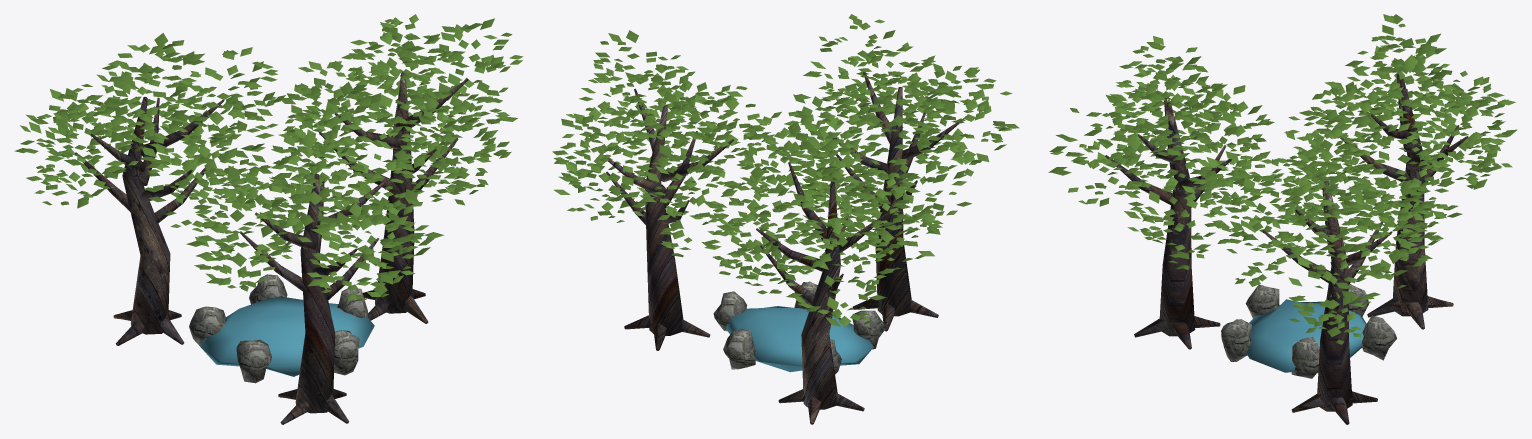
File: env-site-glade.glb
The picture shows the model from 3 angles, left to right: view 1: azimuth 30°, elevation 25°; view 2: azimuth 150°, elevation 25°; view 3: azimuth 270°, elevation 25°; orthographic projection. The views are drawn at different scales.
Parts seen in each view (by area): view 1: site glade · authored textured miniature; view 2: site glade · authored textured miniature; view 3: site glade · authored textured miniature.
Boxes of the visible parts, x1,y1,x2,y2 form: site glade · authored textured miniature: (14,14,523,424); site glade · authored textured miniature: (552,14,1019,424); site glade · authored textured miniature: (1048,14,1517,424).
Size of the model in its own units: 1.78 by 1.14 by 1.71.
4 materials, 2 textured.
